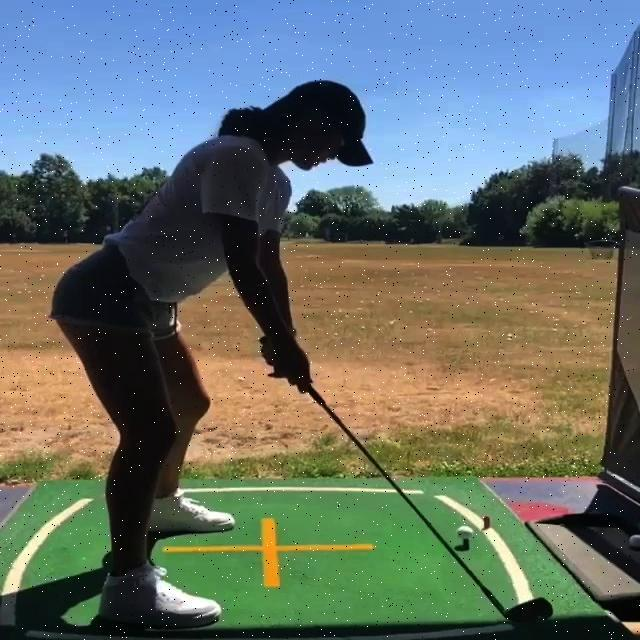ClubHead: (507, 596, 555, 623)
GolfBall: (457, 524, 475, 540), (628, 532, 640, 551)
